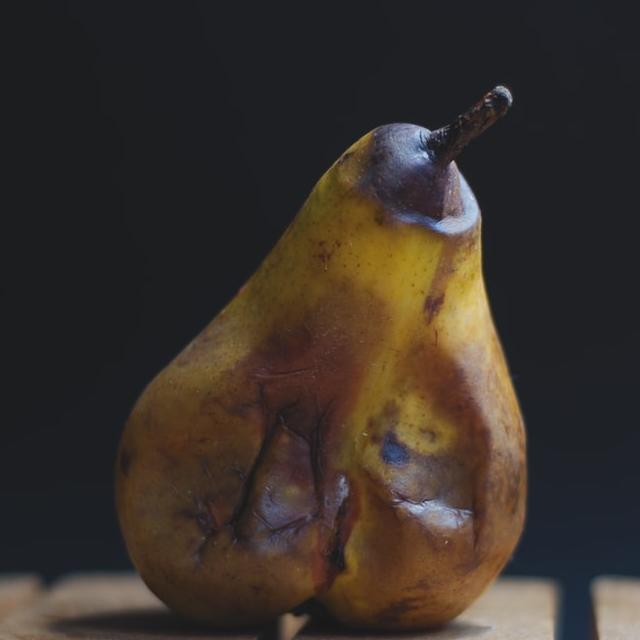food_waste: (85, 102, 600, 640)
